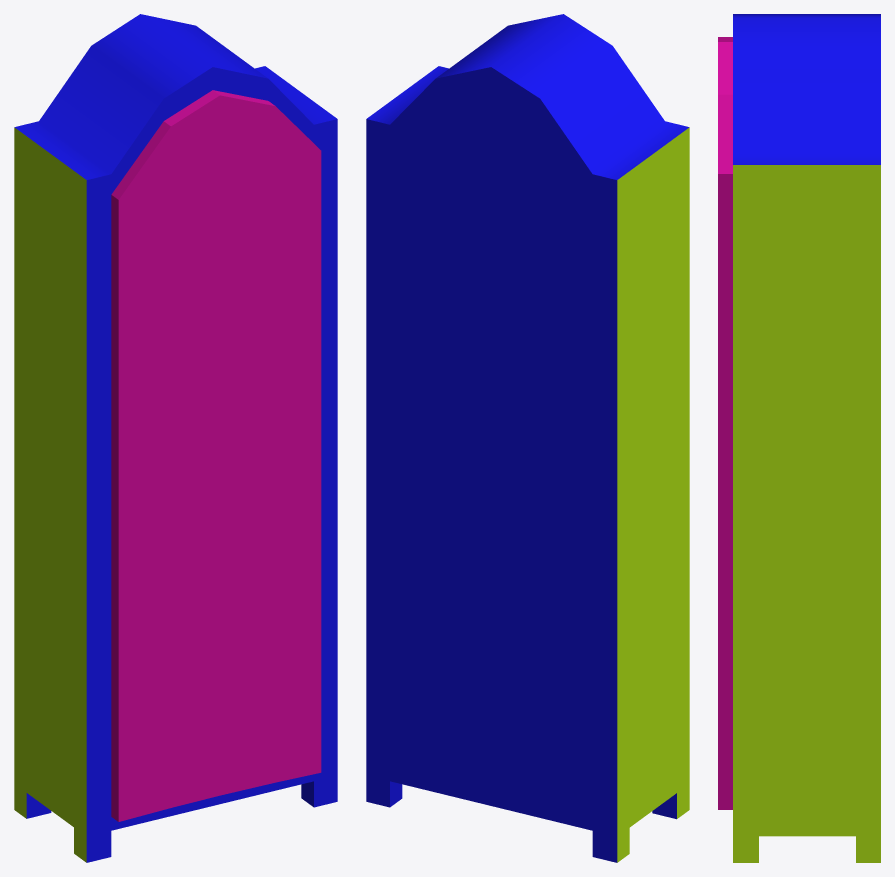
File: armoire.FBX
The picture shows the model from 3 angles, left to right: view 1: azimuth 30°, elevation 25°; view 2: azimuth 150°, elevation 25°; view 3: azimuth 270°, elevation 25°; orthographic projection. The views are drawn at different scales.
Parts seen in each view (by area): view 1: armoire dortoir001; view 2: armoire dortoir001; view 3: armoire dortoir001.
Boxes of the visible parts, x1,y1,x2,y2 form: armoire dortoir001: [14, 14, 337, 862]; armoire dortoir001: [366, 14, 689, 862]; armoire dortoir001: [718, 14, 880, 862].
Bounding box in the file's own units: 100 × 291 × 55.
